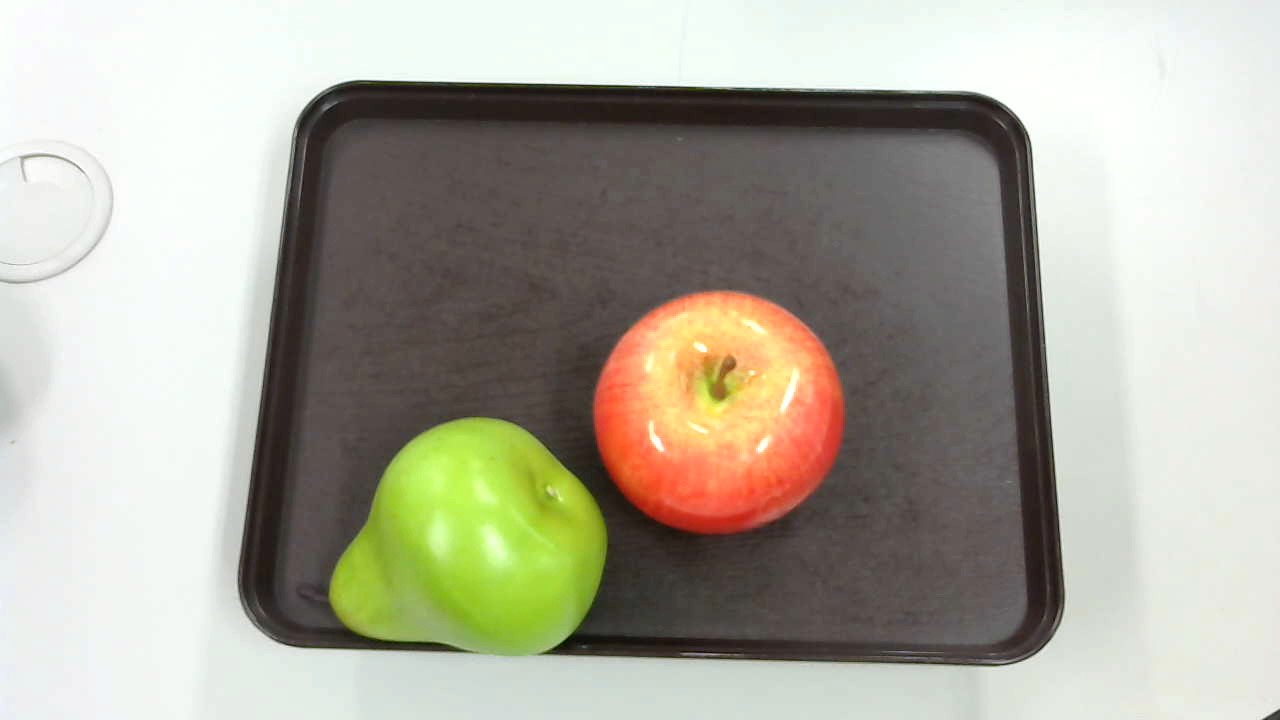green pear: (296, 410, 609, 661)
red apple: (587, 288, 853, 530)
